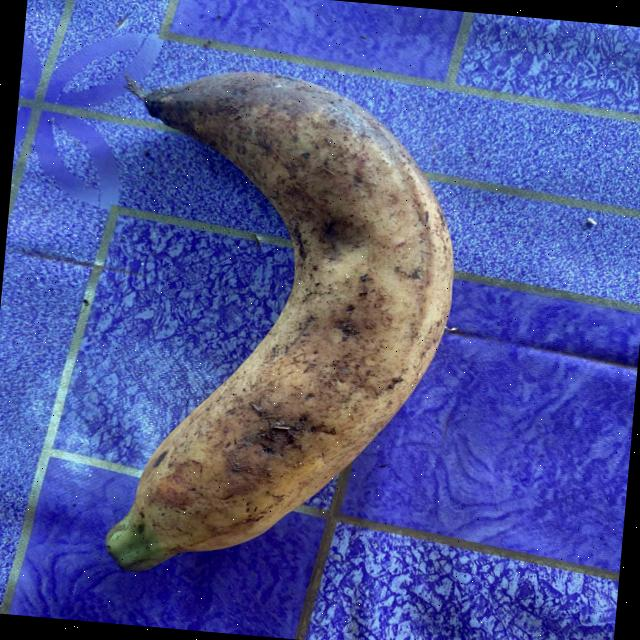Overripe: (15, 51, 548, 640)
